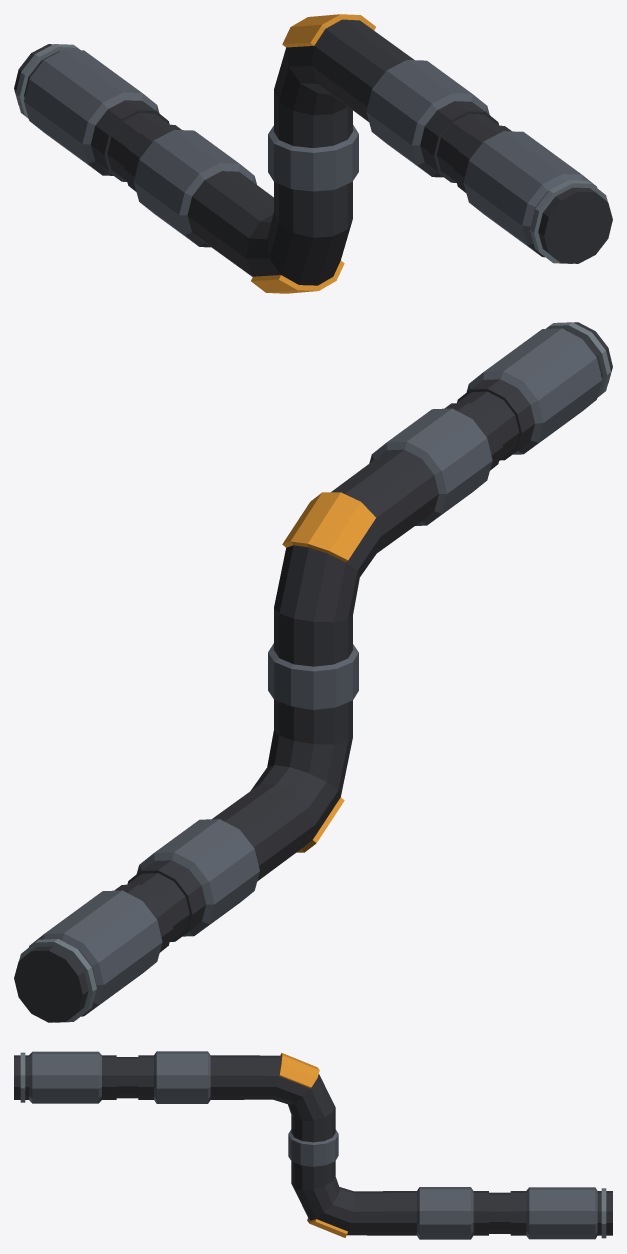
File: SM_Z-shaped_electronic_pipe.glb
The picture shows the model from 3 angles, top to bottom: view 1: azimuth 30°, elevation 25°; view 2: azimuth 150°, elevation 25°; view 3: azimuth 270°, elevation 25°; orthographic projection. The views are drawn at different scales.
Visible parts, largest first — view 1: SM_Z-shaped_electronic_pipe; view 2: SM_Z-shaped_electronic_pipe; view 3: SM_Z-shaped_electronic_pipe.
Part boxes in pixels (x1,y1,x2,y2): SM_Z-shaped_electronic_pipe: (14, 14, 612, 293); SM_Z-shaped_electronic_pipe: (14, 322, 612, 1022); SM_Z-shaped_electronic_pipe: (14, 1051, 612, 1239).
Size of the model in its own units: 0.3523 by 1.35 by 4.
Materials: 1 (1 with a texture image).
